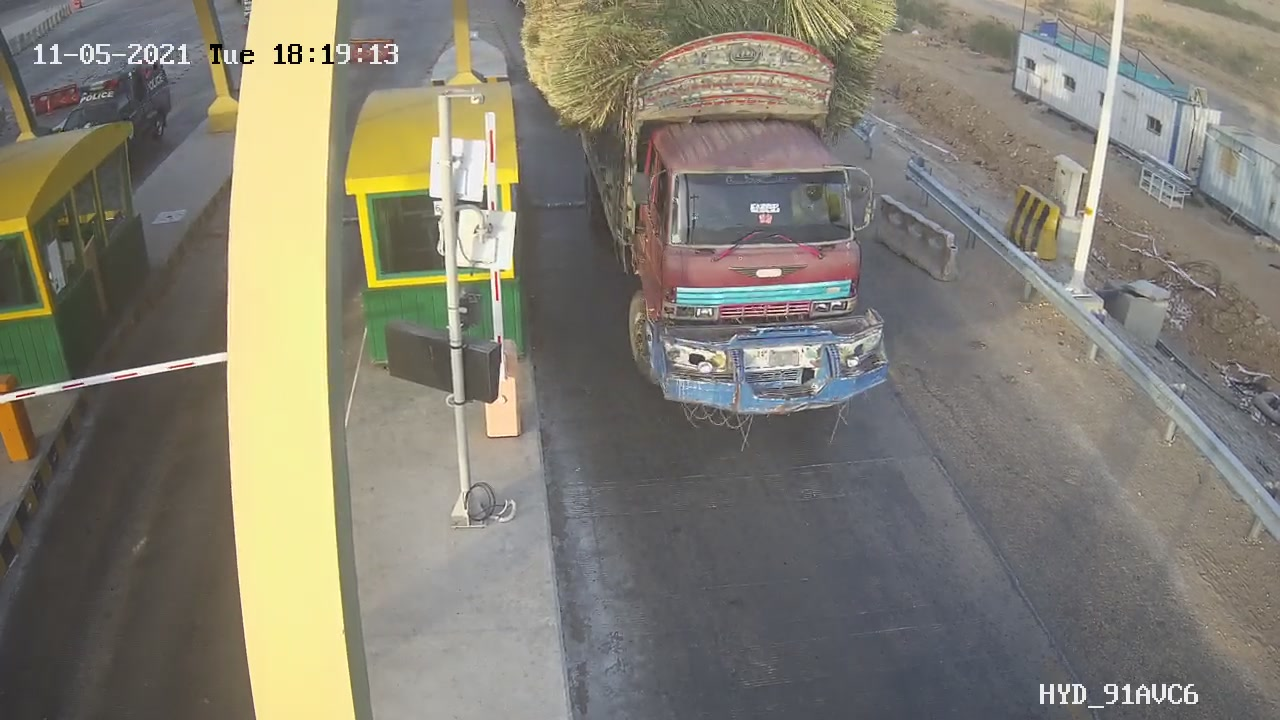F5: (541, 1, 921, 425)
